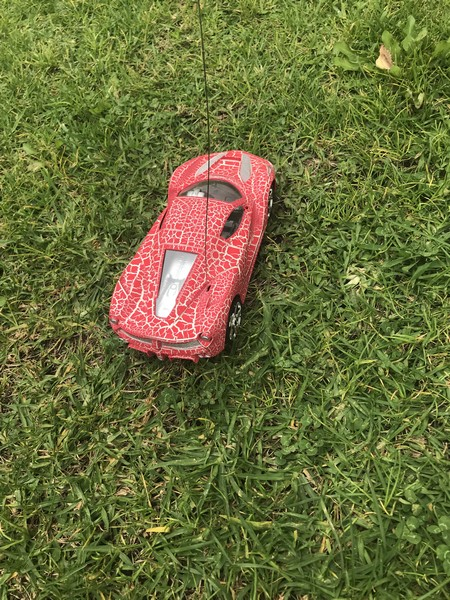RC: (108, 145, 279, 363)
